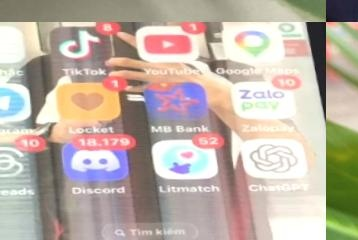screen_defect: (0, 22, 326, 153), (0, 133, 326, 240)
